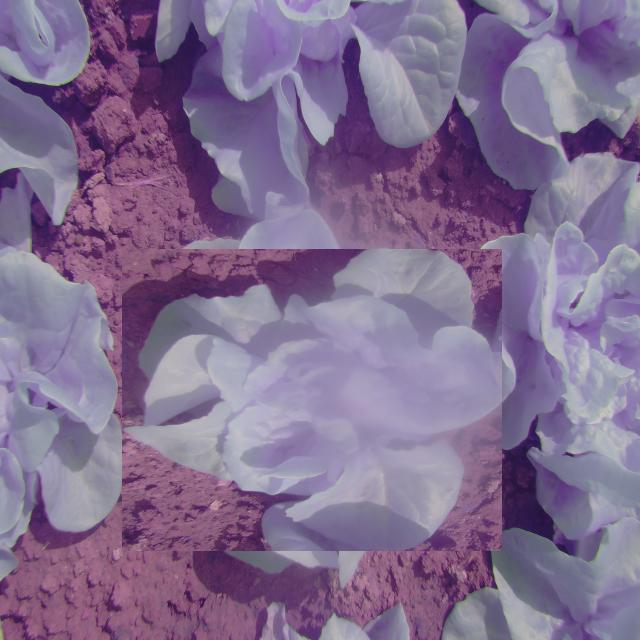vege: (142, 230, 483, 571)
